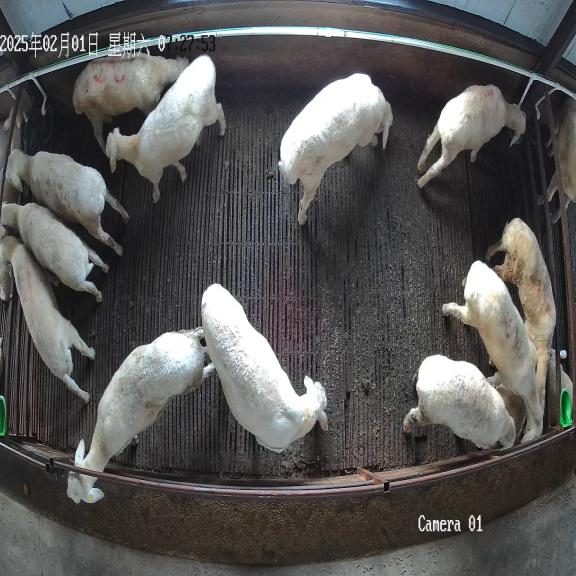drinking: (418, 85, 526, 188)
lying: (486, 371, 526, 436)
stand: (67, 327, 207, 503), (201, 284, 327, 452), (442, 260, 543, 440), (106, 56, 226, 203), (279, 73, 393, 224), (0, 236, 95, 402), (486, 218, 556, 405), (5, 149, 128, 255), (72, 53, 189, 154), (404, 355, 516, 450), (2, 202, 108, 302)
